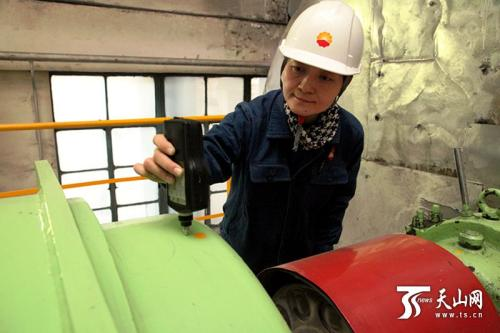hard-hat: (278, 1, 364, 76)
person: (133, 0, 365, 276)
vest: (195, 88, 365, 276)
